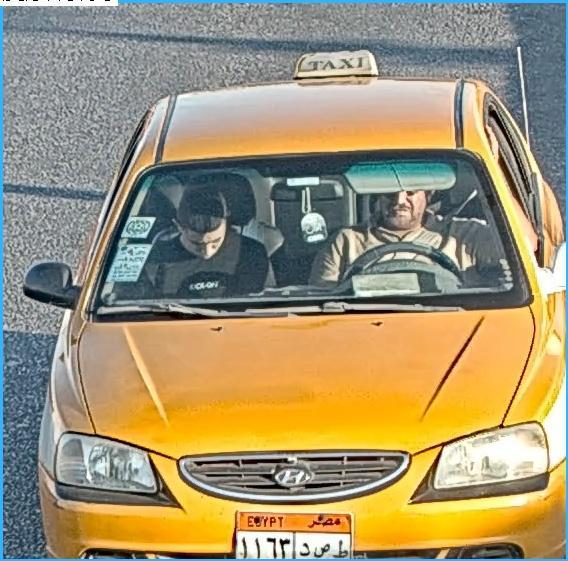windshield: (77, 146, 540, 329)
